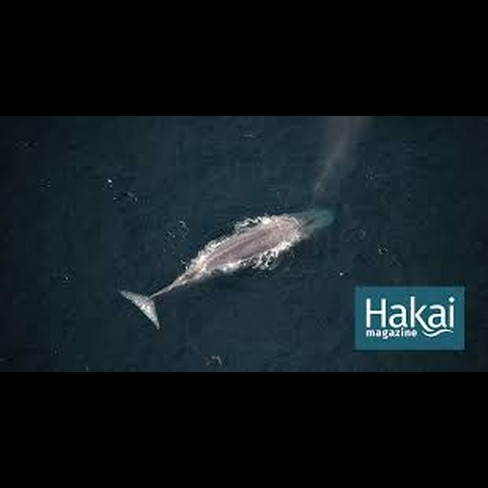bluewhale: (117, 203, 335, 337)
